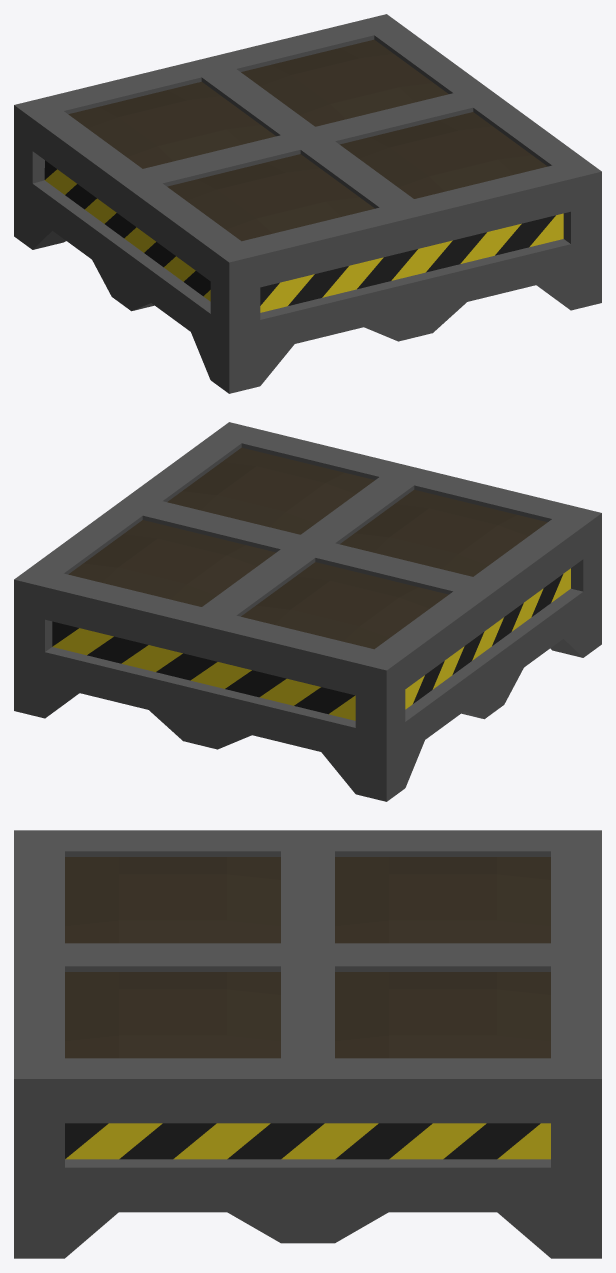
File: platform.fbx
3 renders of one model, top to bottom at view 1: azimuth 30°, elevation 25°; view 2: azimuth 150°, elevation 25°; view 3: azimuth 270°, elevation 25°, orthographic. The views are drawn at different scales.
Parts seen in each view (by area): view 1: Cube; view 2: Cube; view 3: Cube.
Part boxes in pixels (box(x1,y1,x2,y2)): Cube: box(14, 14, 601, 393); Cube: box(14, 422, 601, 801); Cube: box(14, 830, 601, 1258).
Size of the model in its own units: 400 by 135 by 400.
